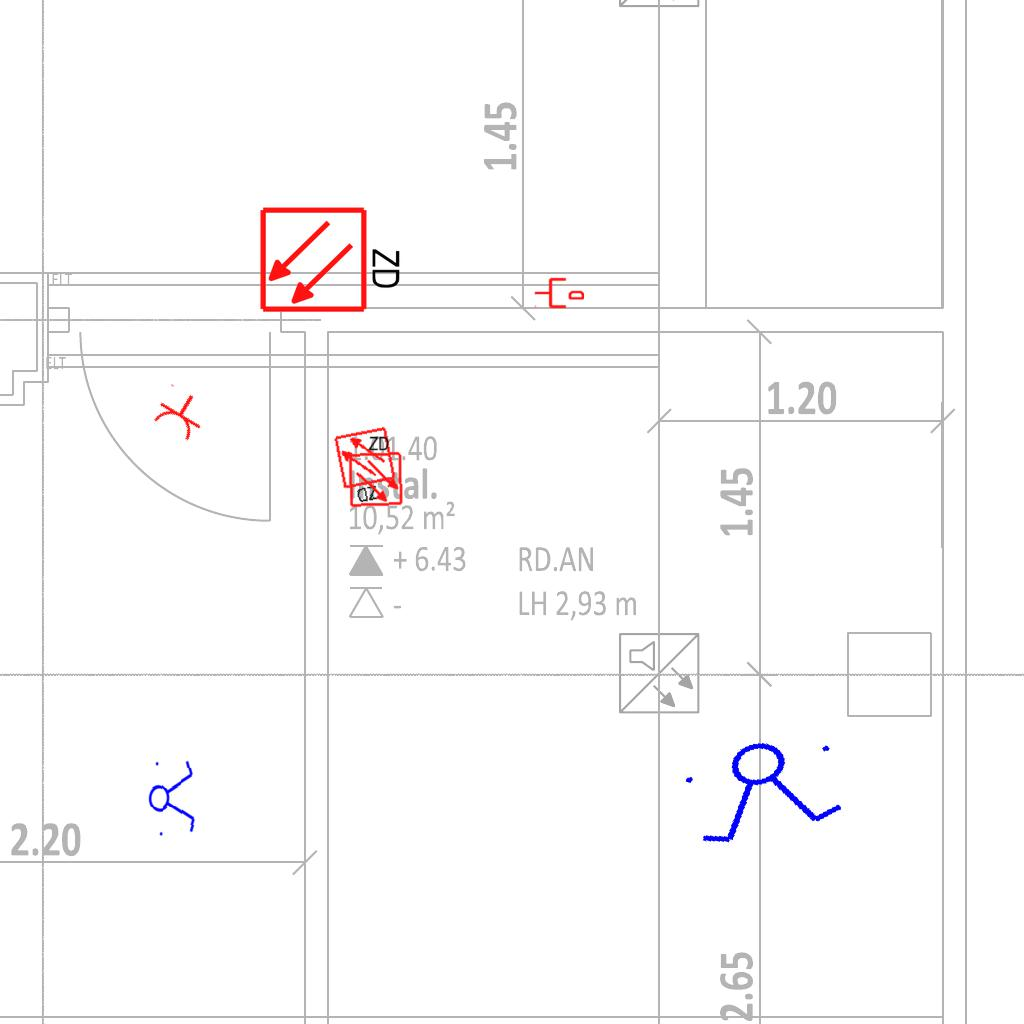Datenanschluss_einfach: (534, 276, 584, 310)
Schukosteckdose_einfach: (147, 381, 214, 445)
Serienschalter: (672, 723, 858, 855), (145, 753, 199, 841)
ZD_Melder_in_Zwischendecke_mit_Revisionsoeffnung_mind_40_x_40_cm: (258, 201, 407, 315), (332, 425, 403, 509), (344, 432, 405, 508)
